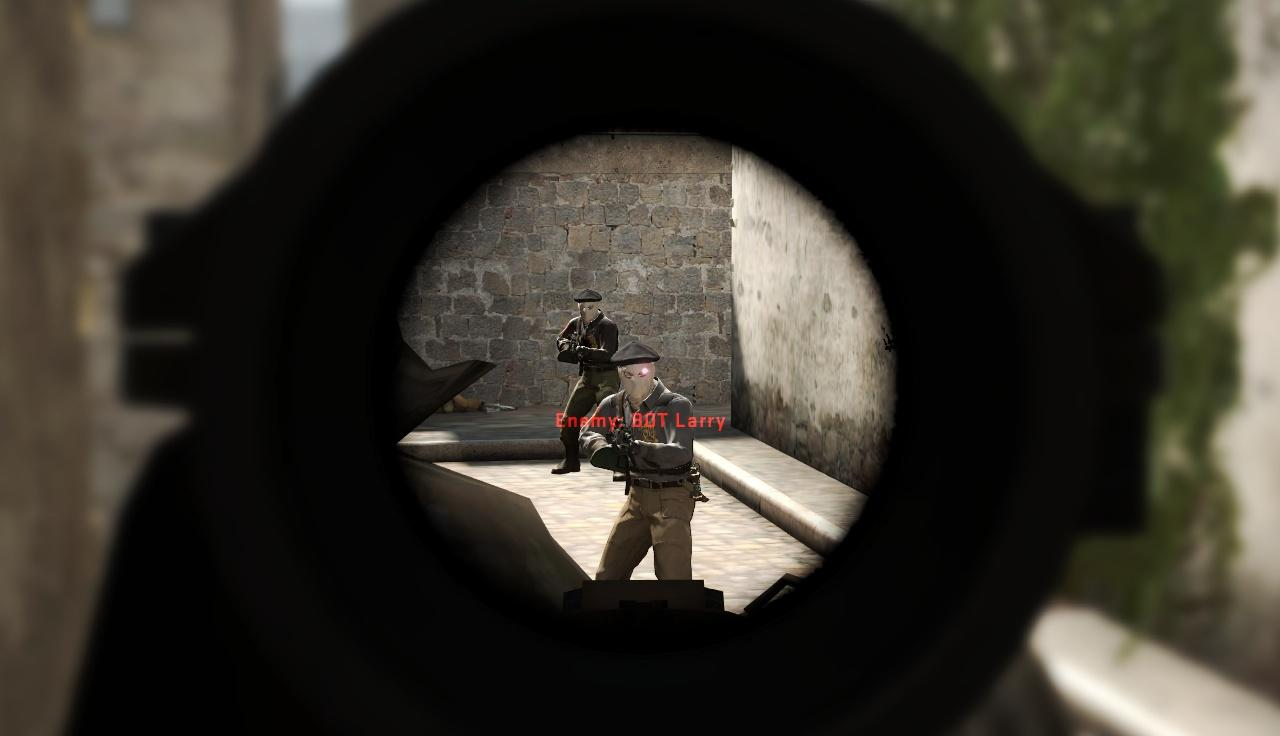tt: (610, 347, 692, 579), (563, 288, 610, 396)
tthead: (618, 347, 656, 399), (578, 289, 598, 322)
